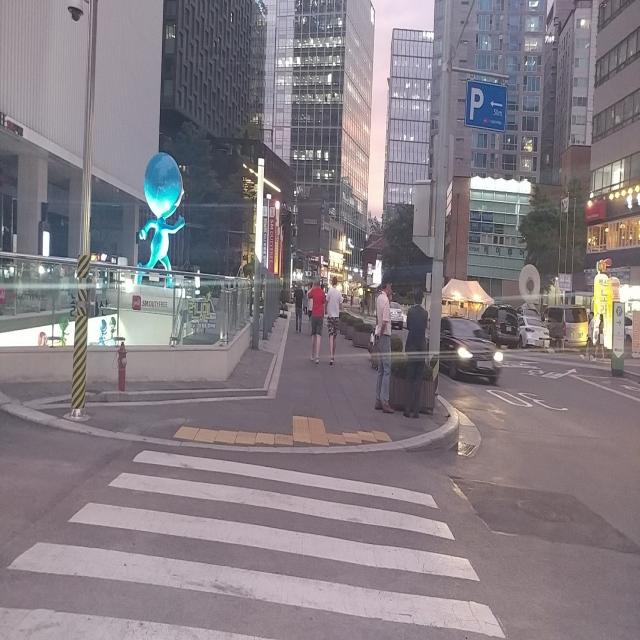횡단보도: (0, 444, 513, 640)
